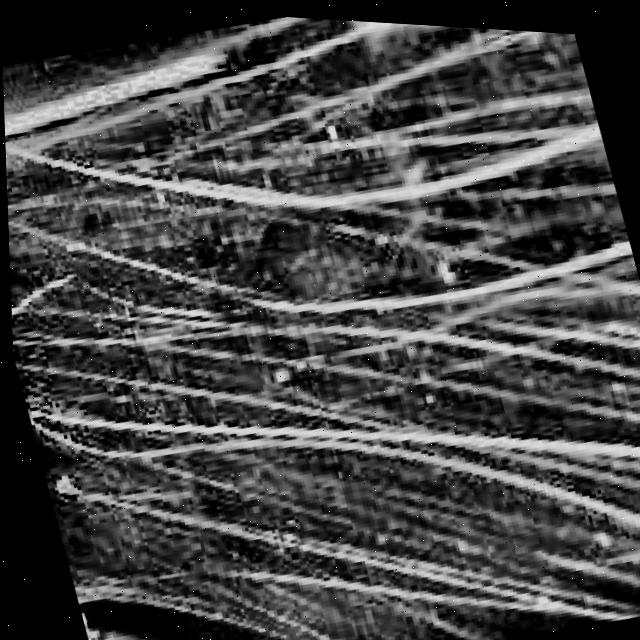door_scratch: (0, 0, 640, 619)
